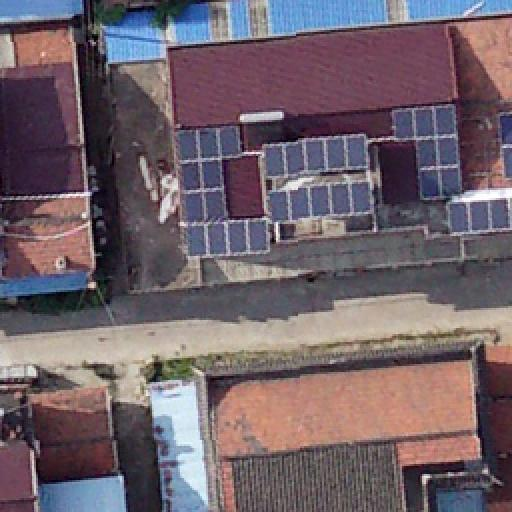solar-panel: (176, 126, 372, 258), (392, 105, 460, 199), (261, 134, 371, 182), (448, 197, 512, 235), (497, 115, 511, 181)
